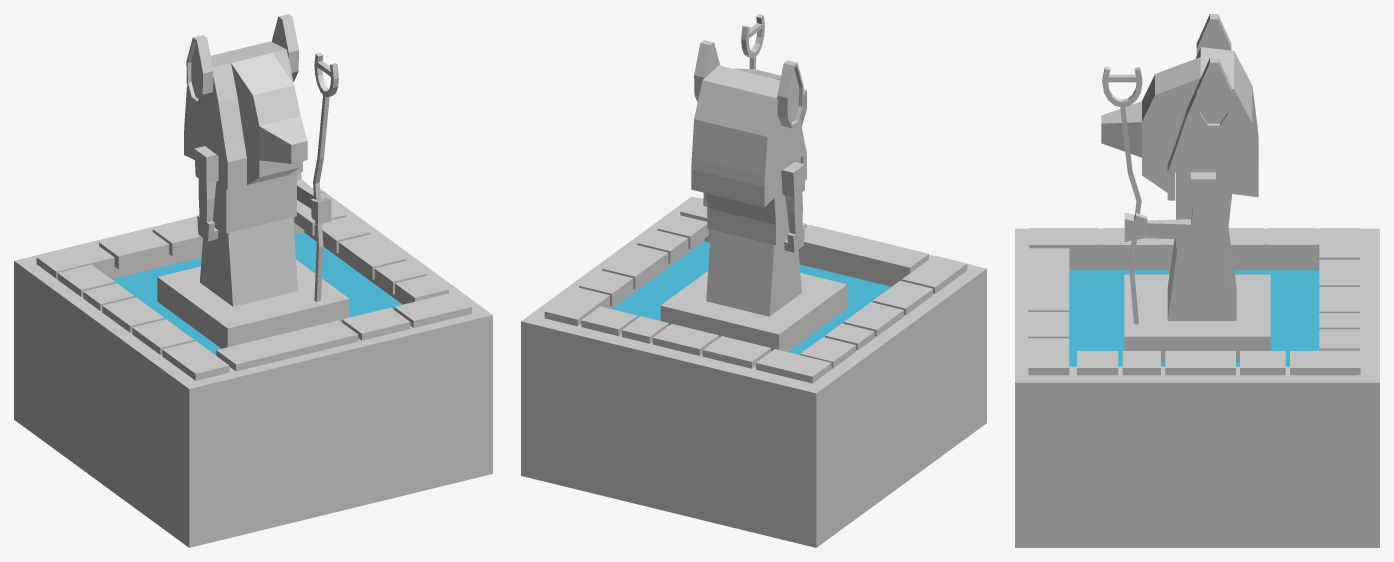
File: EgyptAnubis2.fbx
3 views of the same model, side by side, from view 1: azimuth 30°, elevation 25°; view 2: azimuth 150°, elevation 25°; view 3: azimuth 270°, elevation 25° (orthographic). The views are drawn at different scales.
Visible parts, largest first — view 1: EgyptAnubis2; view 2: EgyptAnubis2; view 3: EgyptAnubis2.
Boxes of the visible parts, left/top/right/bottom form: EgyptAnubis2: left=14, top=14, right=492, bottom=547; EgyptAnubis2: left=521, top=14, right=986, bottom=547; EgyptAnubis2: left=1015, top=14, right=1379, bottom=547.
Size of the model in its own units: 2 by 2 by 2.61.
